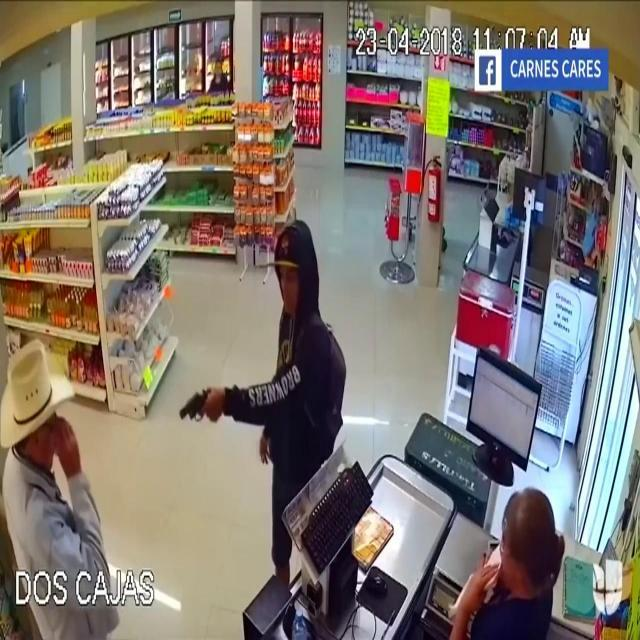weapon: (171, 372, 221, 442)
